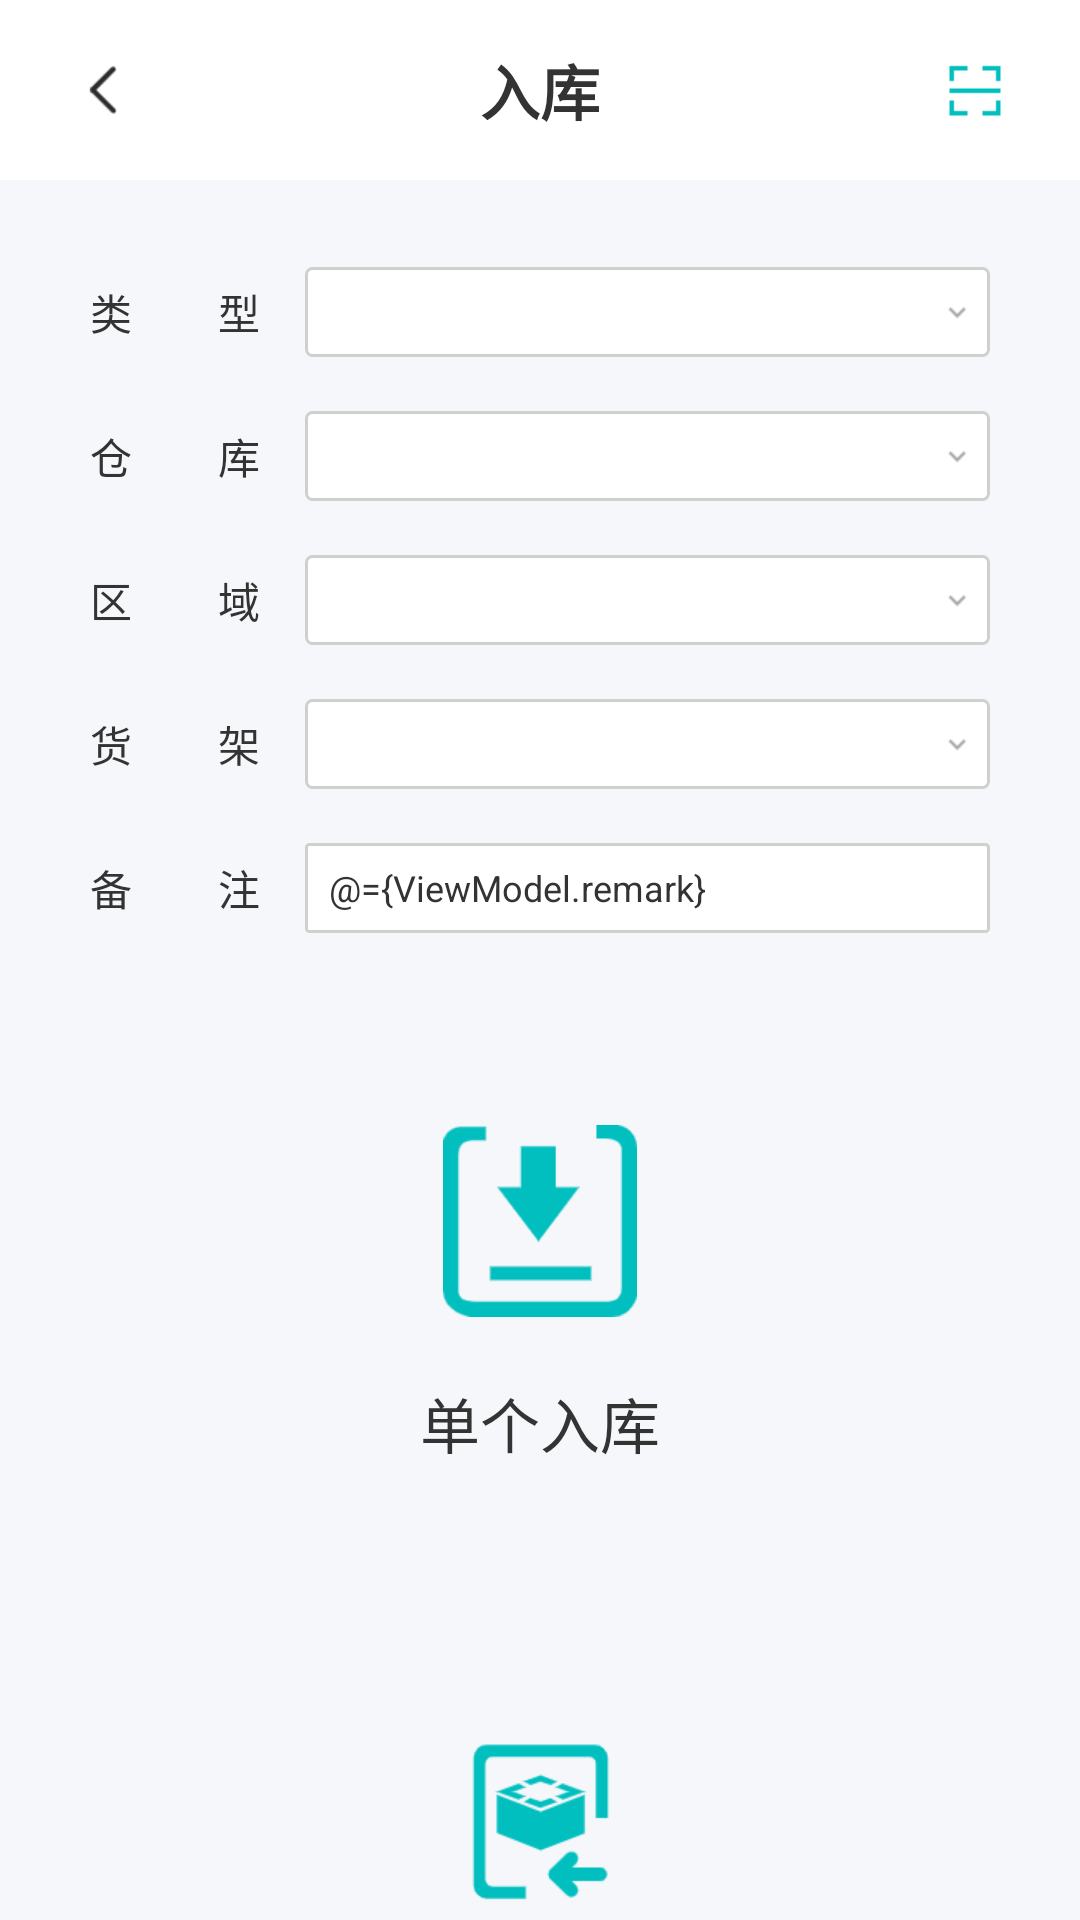

Icons on this 1080 × 1920 Android screen, each with the point to tap as (x=x, y=y):
back: (x=103, y=90)
scan: (x=975, y=90)
